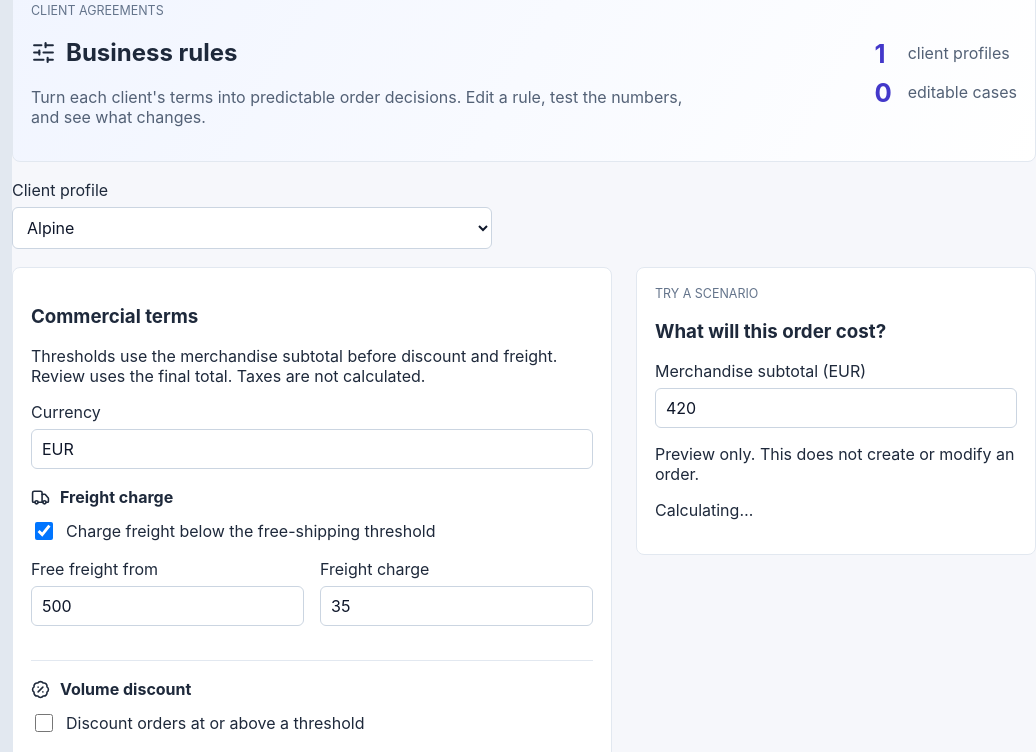
Test: previews unsaved rules and saves the selected client only
This screenshot has width=1036, height=752.
Replace the text in the number field labelled "Freight charge" with "40" at (456, 606), box [320,586,593,626]
(page scrolled)
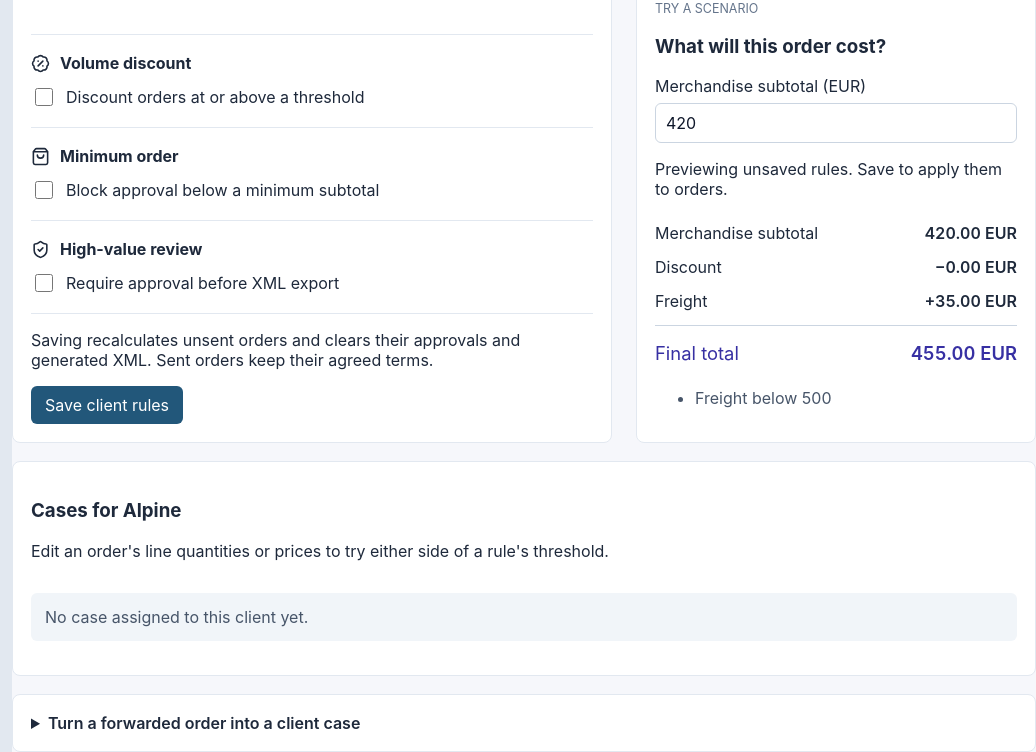
Now the text "Previewing unsaved rules. Save to apply them to orders." is shown, box [655,159,1017,199]
Now the text "455.00 EUR" is shown, box [911,342,1017,364]
Click the button "Save client rules" at (107, 405), box [31,386,183,424]
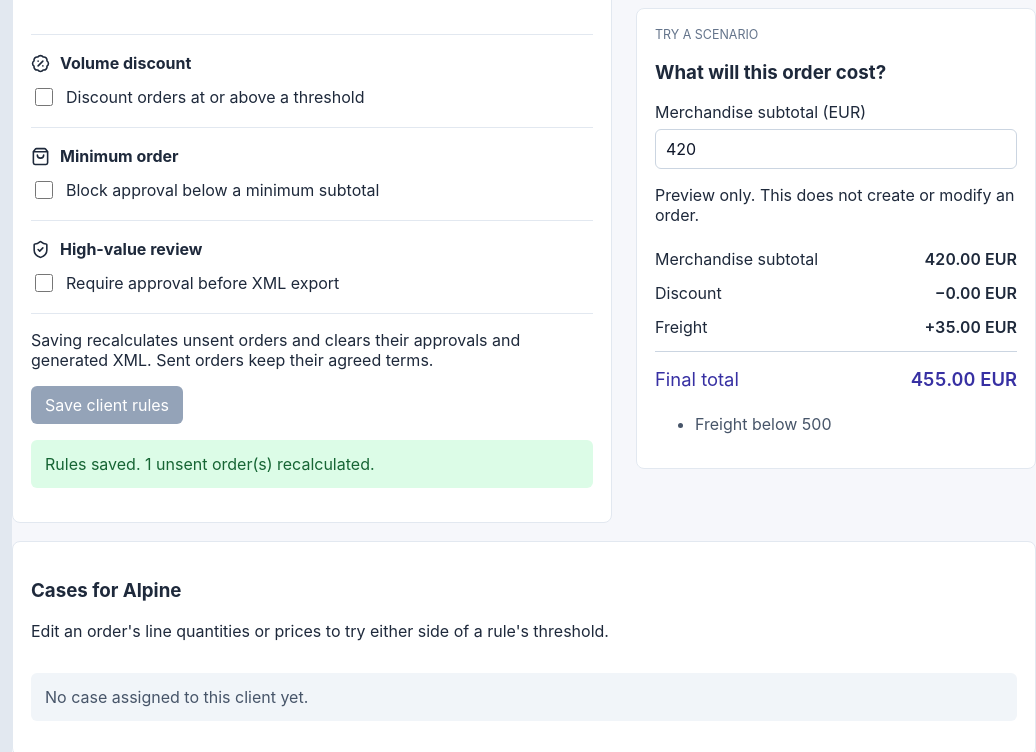
Now the message shows "1 unsent order(s) recalculated", box [45,454,374,474]
